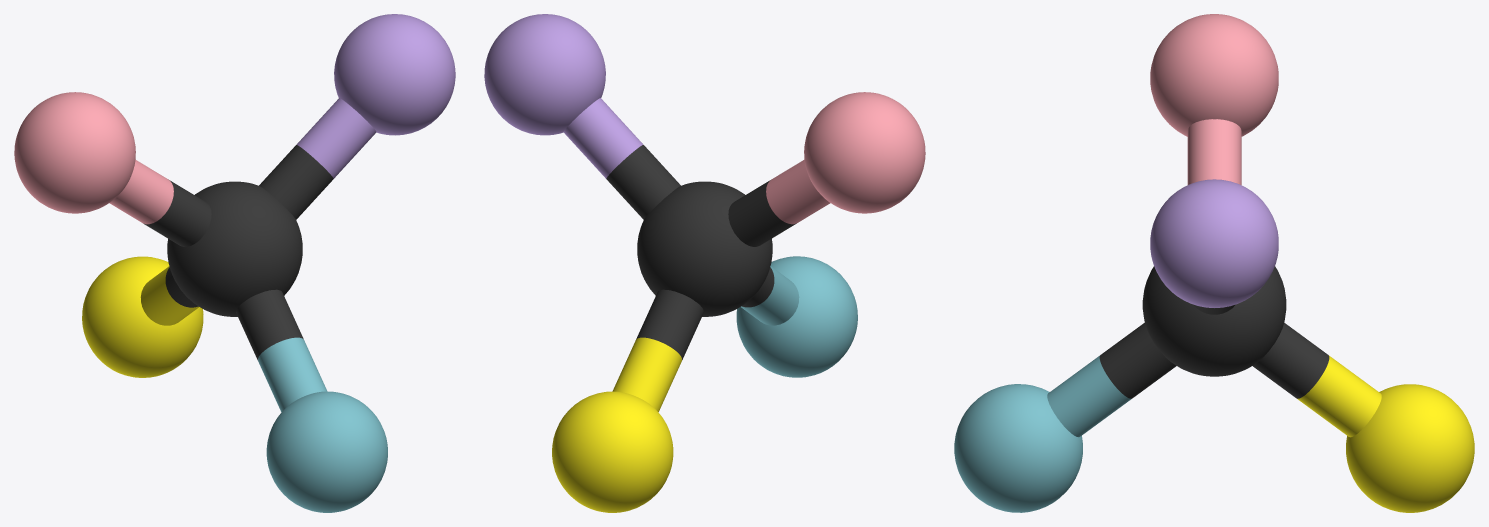
The model's file is jllls.gltf.
3 renders of one model, left to right at view 1: azimuth 30°, elevation 25°; view 2: azimuth 150°, elevation 25°; view 3: azimuth 270°, elevation 25°, orthographic. The views are drawn at different scales.
Visible parts, largest first — view 1: Box001; view 2: Box001; view 3: Box001.
Part boxes in pixels (x1,y1,x2,y2): Box001: (14, 14, 455, 512); Box001: (484, 14, 925, 512); Box001: (954, 14, 1474, 512).
Bounding box in the file's own units: 28.92 × 24.8 × 28.92.
5 materials, 5 textured.
